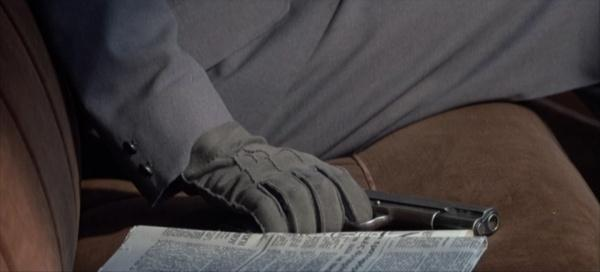Gun: (340, 187, 502, 239)
